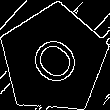O_SE: (21, 26, 86, 92)
